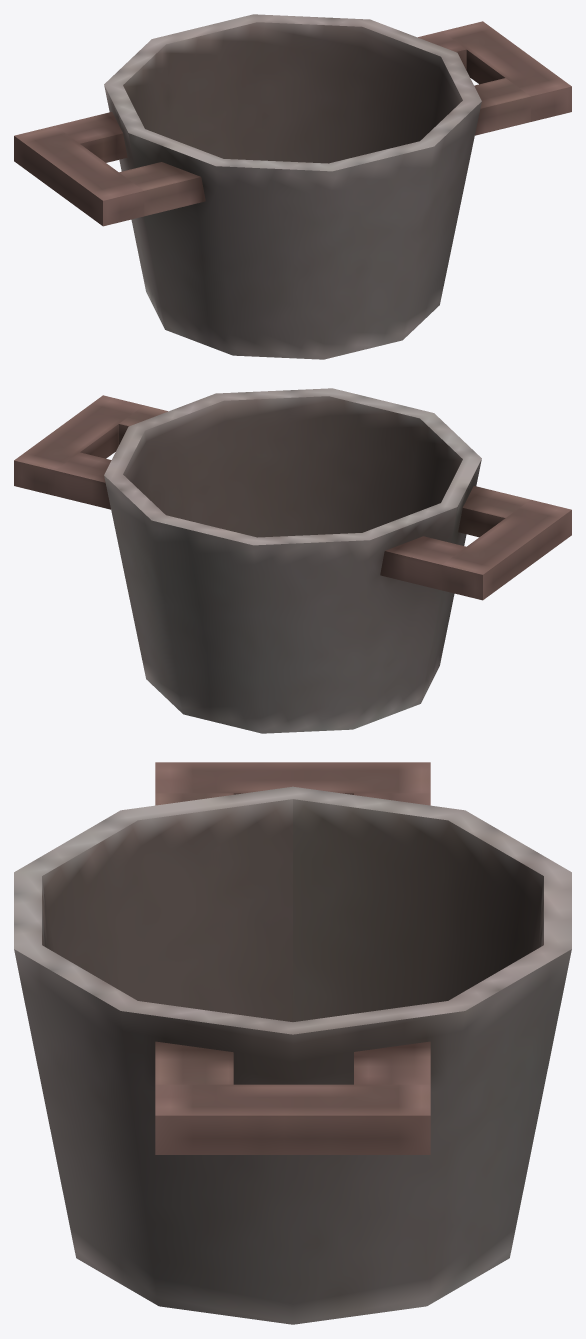
File: RuralProps_Pan2.fbx
3 views of the same model, one above another, from view 1: azimuth 30°, elevation 25°; view 2: azimuth 150°, elevation 25°; view 3: azimuth 270°, elevation 25° (orthographic). The views are drawn at different scales.
Visible parts, largest first — view 1: polySurface7; view 2: polySurface7; view 3: polySurface7.
Part boxes in pixels (<box>): polySurface7: <box>14,14,571,359</box>; polySurface7: <box>14,388,571,733</box>; polySurface7: <box>14,762,571,1324</box>.
Bounding box in the file's own units: 1.71 × 0.7151 × 1.14.
1 material, 1 textured.
